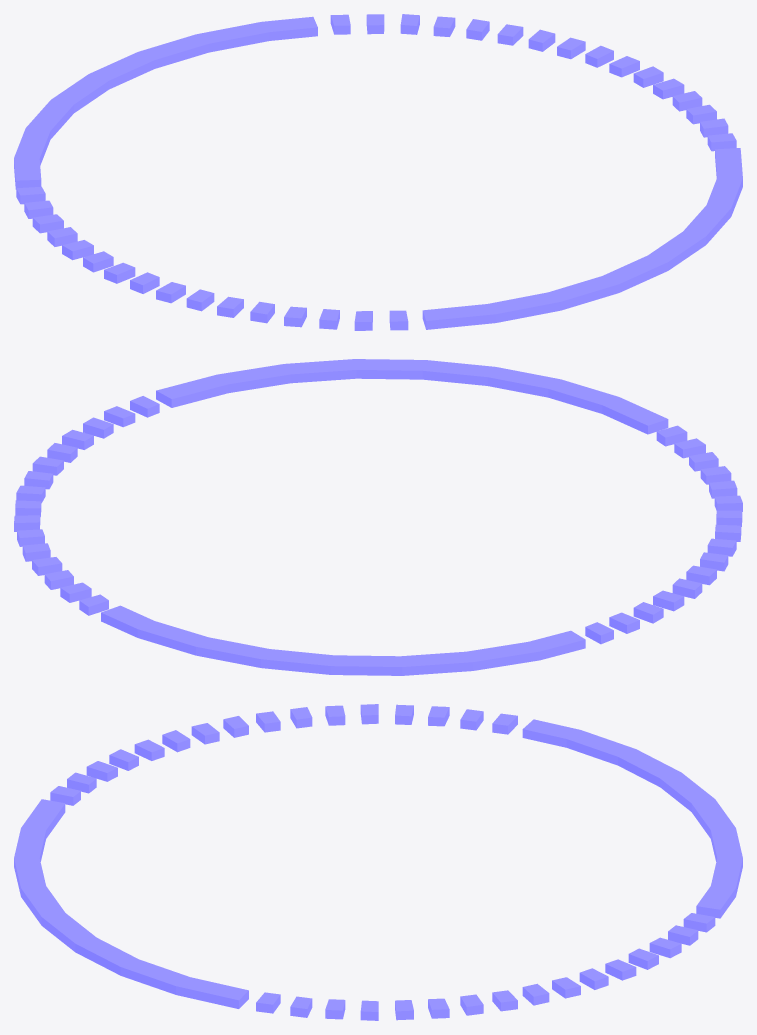
The model's file is ring3.fbx.
3 renders of one model, top to bottom at view 1: azimuth 30°, elevation 25°; view 2: azimuth 150°, elevation 25°; view 3: azimuth 270°, elevation 25°, orthographic.
Parts seen in each view (by area): view 1: Circle.003; view 2: Circle.003; view 3: Circle.003.
Boxes of the visible parts, left/top/right/bottom form: Circle.003: left=14, top=14, right=742, bottom=330; Circle.003: left=14, top=359, right=742, bottom=675; Circle.003: left=14, top=704, right=742, bottom=1020.
Size of the model in its own units: 131 by 1.75 by 131.
